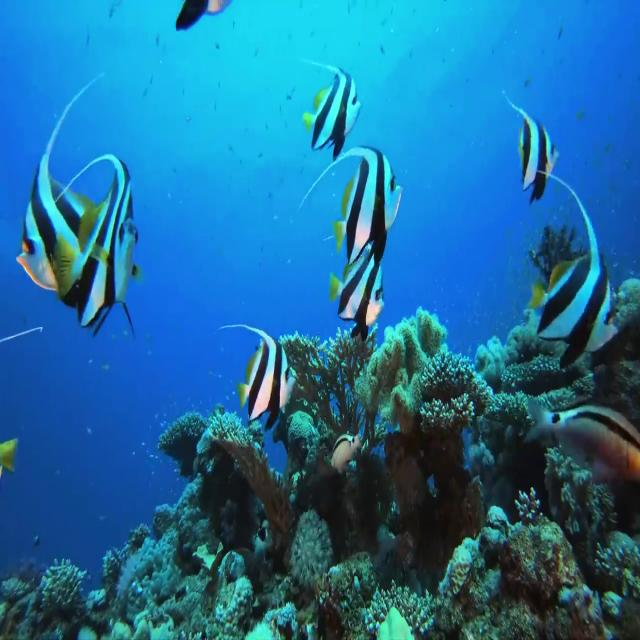fish: (12, 46, 110, 298), (526, 147, 628, 370), (46, 138, 146, 339), (290, 140, 409, 256), (213, 295, 304, 435), (519, 390, 640, 493), (292, 31, 374, 156), (506, 80, 563, 215), (323, 240, 386, 355)
